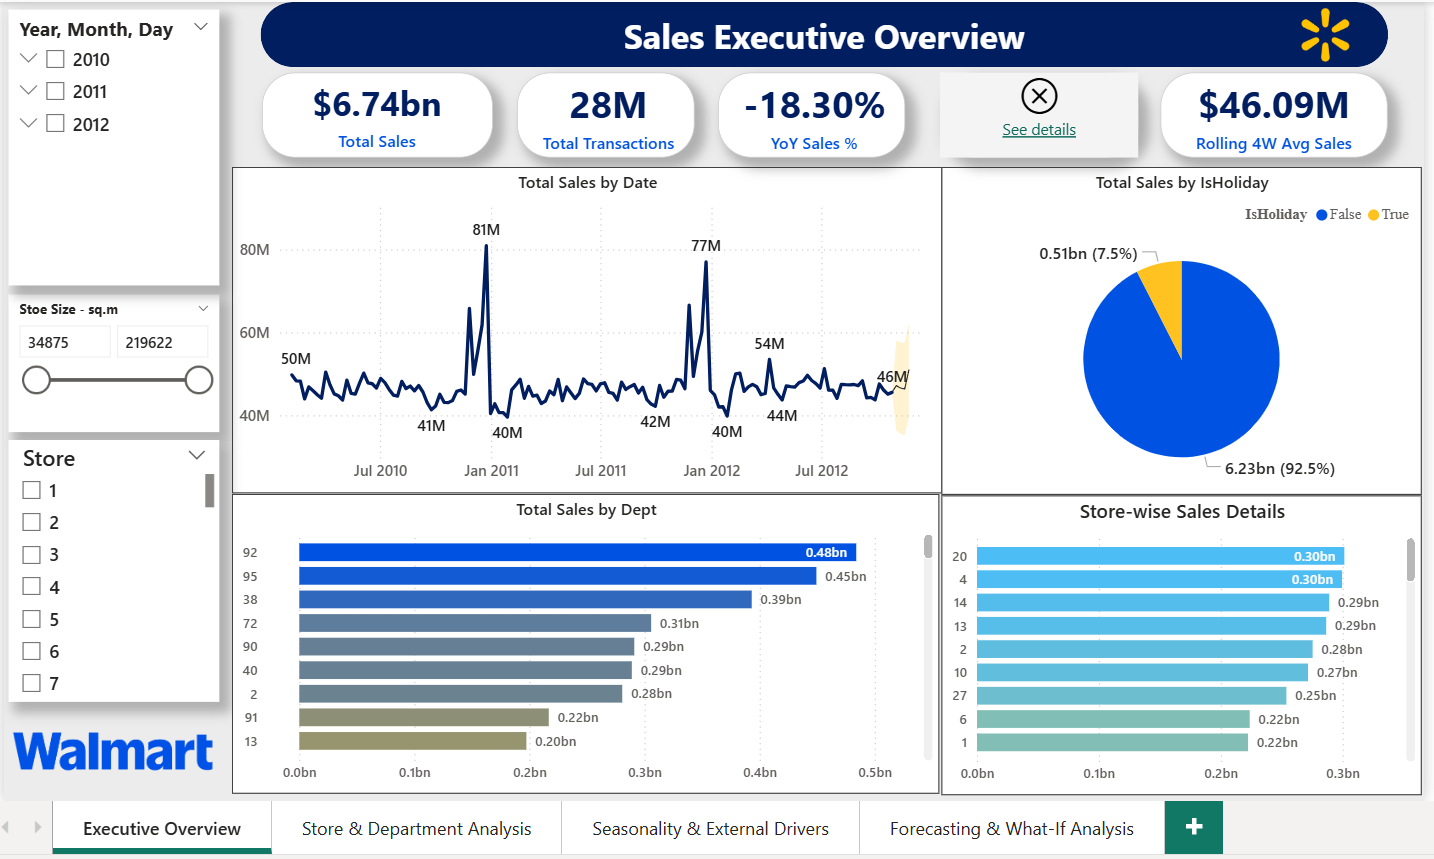

The page's visual inventory and layout, read from the dashboard file:
{"tool":"powerbi","page":{"name":"Executive Overview","canvas":[1280,720],"ordinal":0},"visuals":[{"type":"card","fields":{"Values":["_Measures.Total Sales"]},"box":[232.2,63.3,207.8,76.7],"z":0},{"type":"card","fields":{"Values":["_Measures.Total Transactions"]},"box":[462.2,63.3,160,76.7],"z":1000},{"type":"card","fields":{"Values":["_Measures.Rolling 4W Avg Sales"]},"box":[1042.2,63.3,204.4,76.7],"z":2000},{"type":"image","box":[1073.4,352.8,206.6,62.2],"z":3000},{"type":"lineChart","fields":{"Category":["Datetable.Date"],"Y":["_Measures.Total Sales"]},"box":[205.8,149.2,640,294.2],"z":4000},{"type":"clusteredBarChart","title":"Store-wise Sales Details","fields":{"Y":["_Measures.Total Sales"],"Category":["STORES.Store"]},"box":[844.3,444.3,432.9,270],"z":5000},{"type":"slicer","fields":{"Values":["STORES.Size"]},"box":[3.8,262.9,190,123.8],"z":6000},{"type":"slicer","fields":{"Values":["Datetable.Year","Datetable.Month","Datetable.Day"]},"box":[3.9,6.5,190,248.7],"z":7000},{"type":"slicer","fields":{"Values":["STORES.Store"]},"box":[3.8,395,190,235.8],"z":8000},{"type":"clusteredBarChart","fields":{"Y":["_Measures.Total Sales"],"Category":["SALES.Dept"]},"box":[205.8,443.3,637.5,270],"z":10000},{"type":"pieChart","fields":{"Y":["_Measures.Total Sales"],"Category":["SALES.IsHoliday"]},"box":[844.2,149.2,432.5,295],"z":11000},{"type":"card","fields":{"Values":["_Measures.MoM Growth %"]},"box":[843.3,63.3,178.9,76.7],"z":12000},{"type":"card","fields":{"Values":["_Measures.YoY Sales %"]},"box":[643.3,63.3,168.9,76.7],"z":13000},{"type":"image","box":[3.3,636.7,190,77.3],"z":15000},{"type":"shape","box":[231.2,0,1016.2,58.8],"z":16001},{"type":"image","box":[1158.2,0,64.5,59.1],"z":16502}]}

Visuals, with their boxes in screenshot pixels (x1, y1, x2, y2):
card - _Measures.Total Sales: (left=260, top=70, right=490, bottom=155)
card - _Measures.Total Transactions: (left=514, top=70, right=691, bottom=155)
card - _Measures.Rolling 4W Avg Sales: (left=1155, top=70, right=1381, bottom=155)
image: (left=1190, top=390, right=1418, bottom=459)
lineChart - Datetable.Date x _Measures.Total Sales: (left=231, top=165, right=938, bottom=490)
"Store-wise Sales Details" clusteredBarChart: (left=937, top=491, right=1415, bottom=789)
slicer - STORES.Size: (left=8, top=290, right=218, bottom=427)
slicer - Datetable.Year x Datetable.Month: (left=8, top=7, right=218, bottom=282)
slicer - STORES.Store: (left=8, top=436, right=218, bottom=697)
clusteredBarChart - _Measures.Total Sales x SALES.Dept: (left=231, top=490, right=935, bottom=788)
pieChart - _Measures.Total Sales x SALES.IsHoliday: (left=936, top=165, right=1414, bottom=491)
card - _Measures.MoM Growth %: (left=935, top=70, right=1133, bottom=155)
card - _Measures.YoY Sales %: (left=714, top=70, right=901, bottom=155)
image: (left=7, top=703, right=217, bottom=789)
shape: (left=259, top=0, right=1382, bottom=65)
image: (left=1283, top=0, right=1355, bottom=65)
